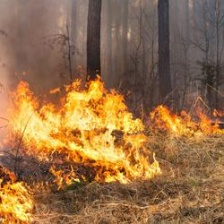fire: (15, 88, 162, 179), (173, 114, 222, 135), (4, 187, 29, 219)
